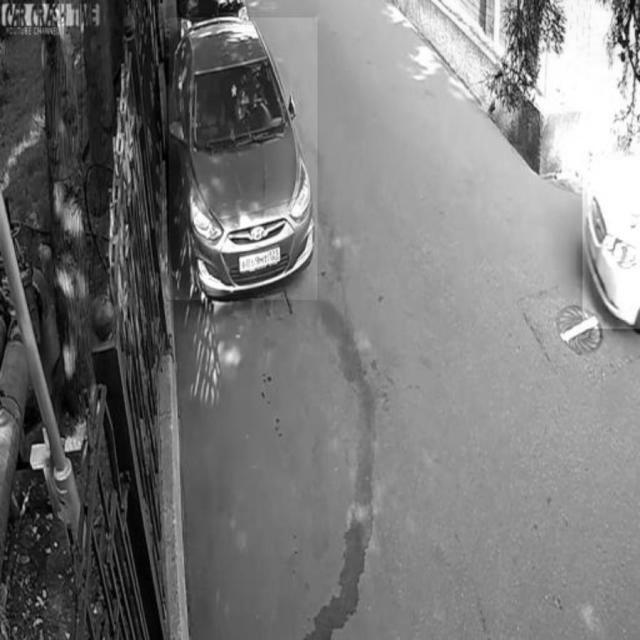vehicle: (169, 18, 317, 300), (583, 157, 640, 329)
